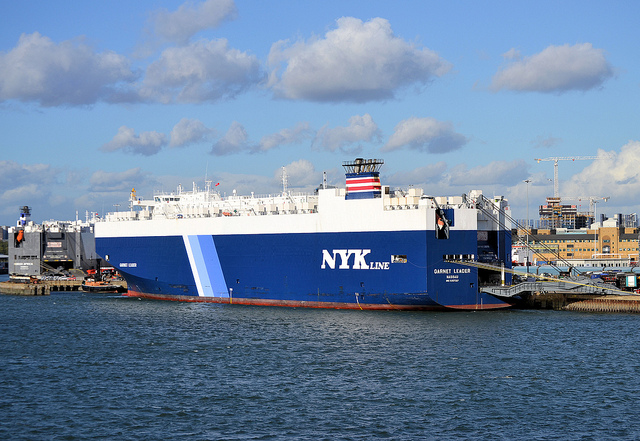PCC: (97, 163, 527, 315)
